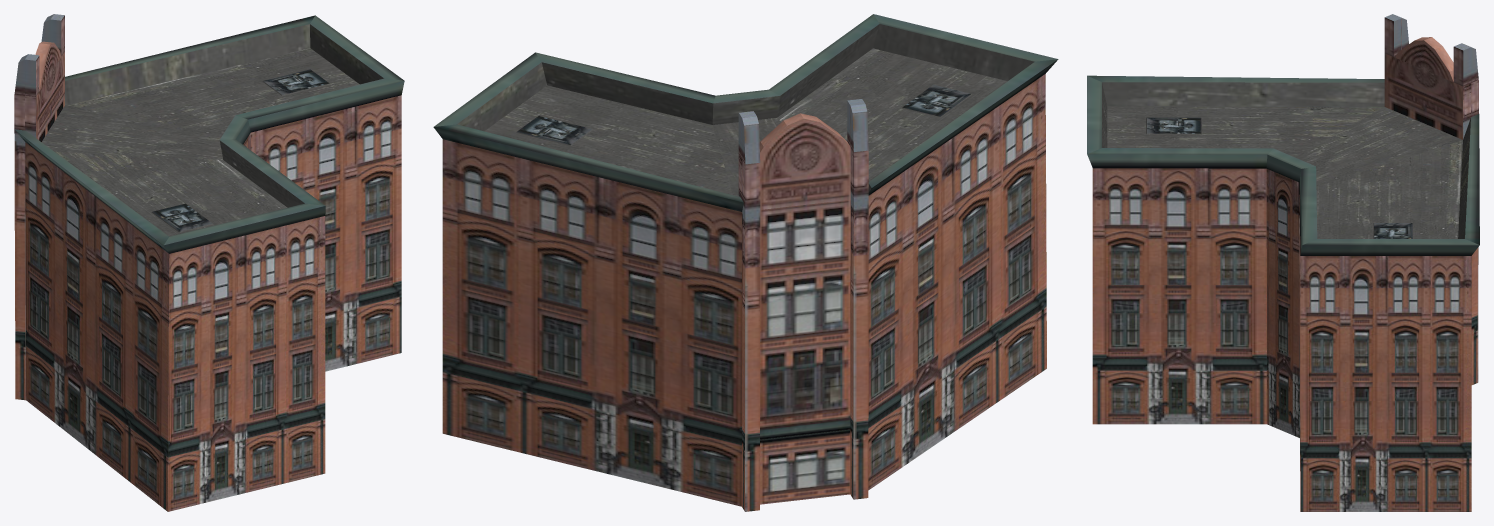
Rendered from Corner_Building.fbx.
3 renders of one model, left to right at view 1: azimuth 30°, elevation 25°; view 2: azimuth 150°, elevation 25°; view 3: azimuth 270°, elevation 25°, orthographic. The views are drawn at different scales.
Visible parts, largest first — view 1: Corner_Building; view 2: Corner_Building; view 3: Corner_Building.
Boxes of the visible parts, <box> form: Corner_Building: <box>14,14,404,511</box>; Corner_Building: <box>433,14,1058,511</box>; Corner_Building: <box>1087,14,1479,511</box>.
Size of the model in its own units: 32.13 by 31.48 by 29.93.
